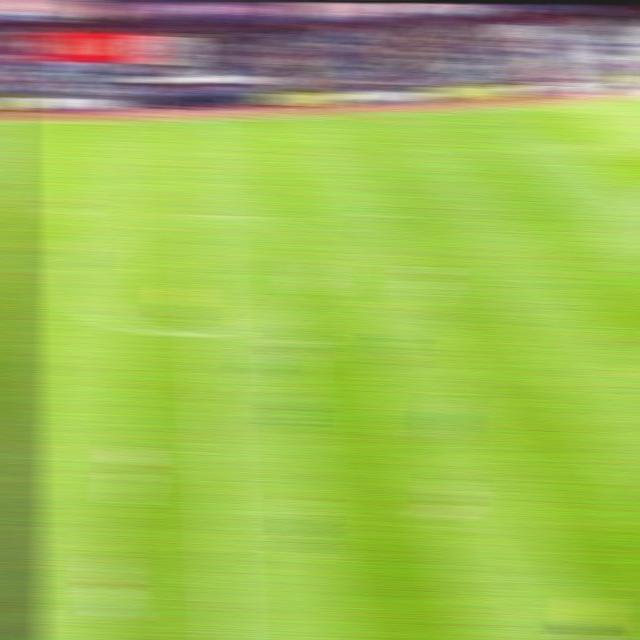bigarea_top_inner: (548, 140, 584, 160)
halfcircle_bottom: (188, 317, 231, 348)
halfcircle_top: (182, 201, 226, 230)
midline_top_intersection: (181, 107, 218, 130)
top_arc_area_intersection: (606, 189, 640, 209)
